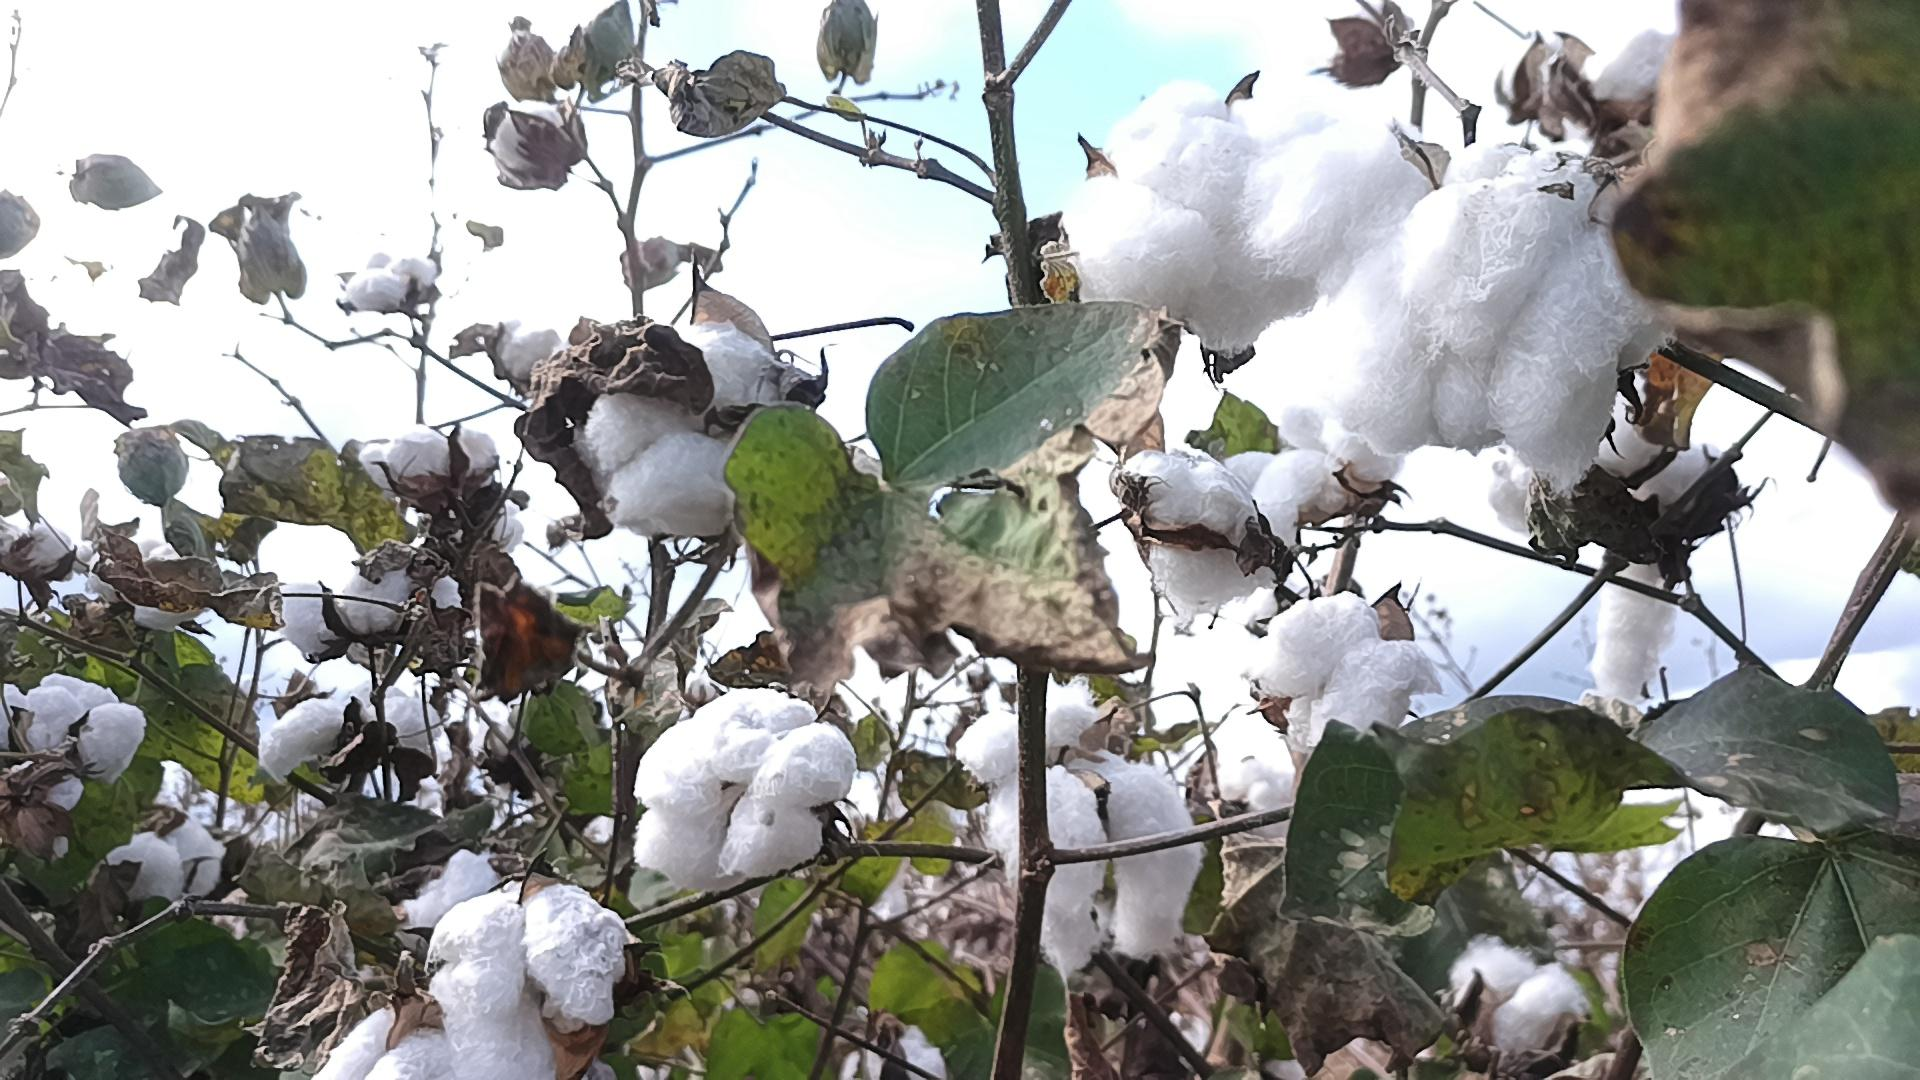cotton_ready: (1320, 144, 1671, 492), (1493, 409, 1739, 705), (1060, 76, 1321, 353), (955, 683, 1203, 971), (578, 324, 810, 541), (633, 687, 857, 886), (426, 876, 628, 1080), (1254, 591, 1449, 750), (1226, 400, 1408, 551), (0, 673, 146, 860), (1122, 448, 1278, 615), (1447, 931, 1597, 1052), (284, 559, 463, 661), (261, 683, 440, 783), (305, 1000, 481, 1080), (107, 808, 231, 907), (87, 534, 210, 632), (360, 426, 498, 497), (485, 99, 572, 182), (338, 249, 443, 314), (0, 520, 95, 578), (496, 315, 570, 384)
